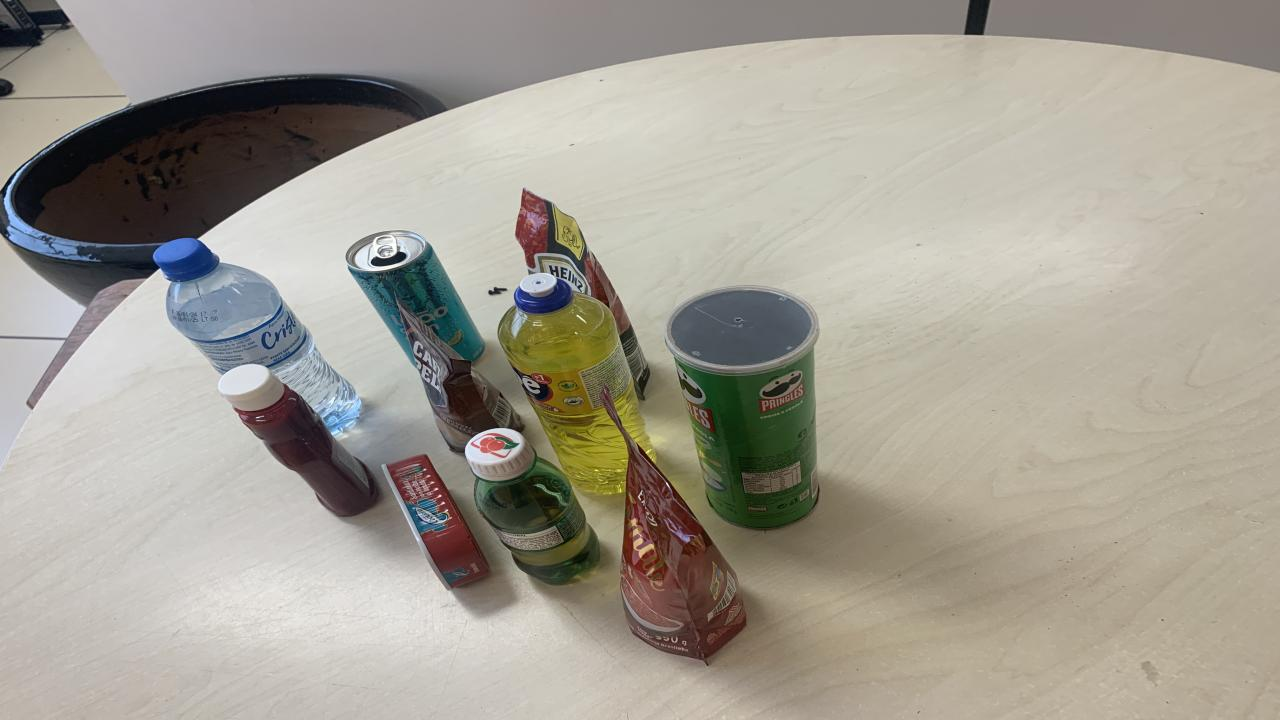Coffee-Pantry_Items: (398, 302, 525, 452)
Detergent-Cleanup_Items: (498, 272, 655, 495)
Guarana-Drinks: (465, 428, 600, 585)
Ketchup-Pantry_Items: (218, 364, 380, 516)
Pringles-Snacks: (665, 287, 818, 529)
Tea-Drinks: (345, 231, 485, 364)
Tomato_Sauce-Pantry_Items: (515, 189, 650, 398), (622, 433, 745, 660)
Tuna_Can-Pantry_Items: (382, 456, 490, 589)
Water_Bottle-Drinks: (152, 238, 360, 433)
